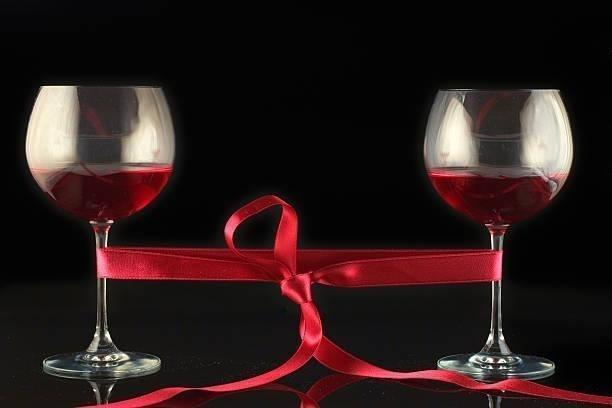glass-wine: (25, 81, 176, 378), (423, 84, 574, 377)
